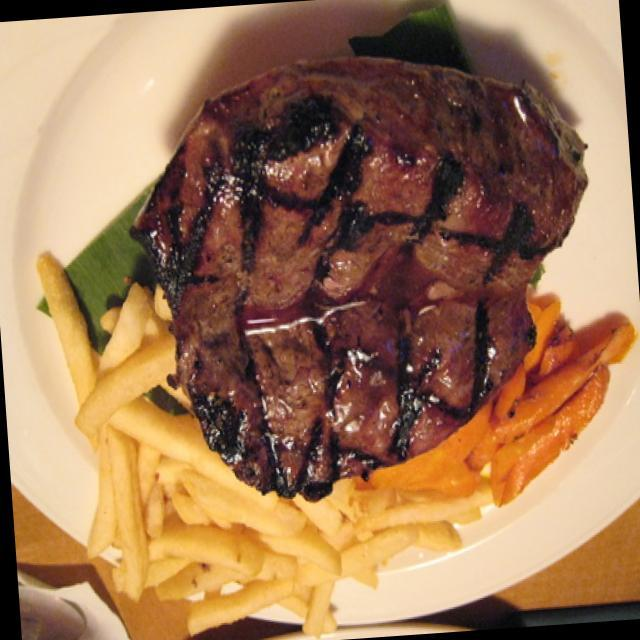Chicken: (160, 71, 564, 474)
